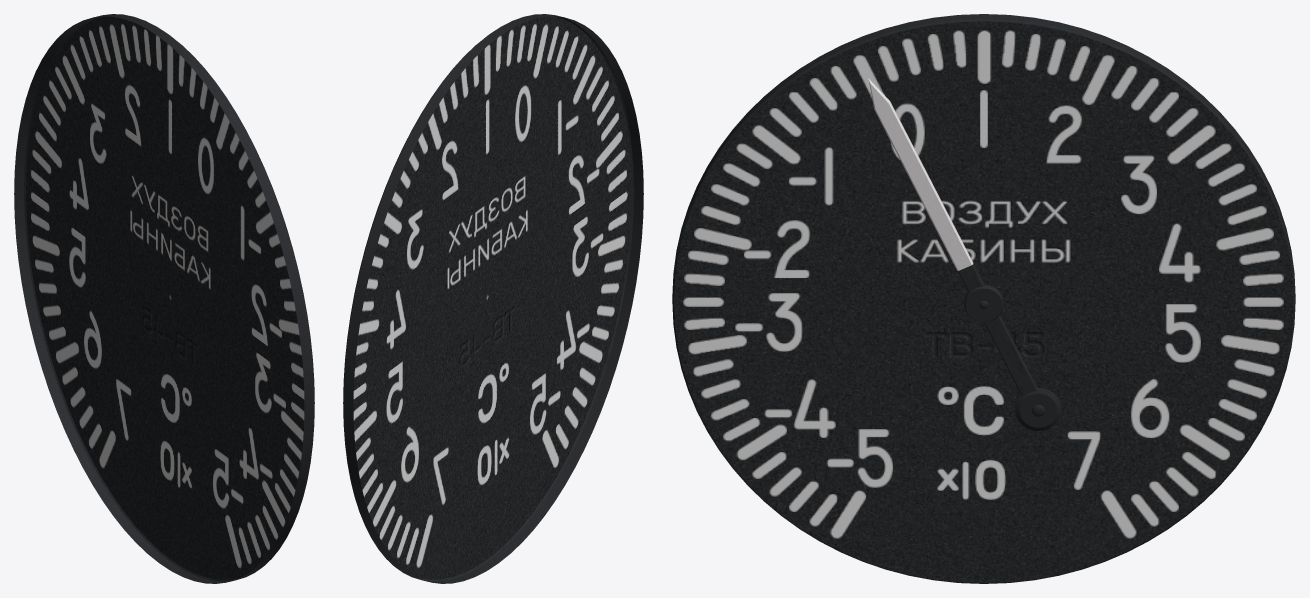
3 renders of one model, left to right at view 1: azimuth 30°, elevation 25°; view 2: azimuth 150°, elevation 25°; view 3: azimuth 270°, elevation 25°, orthographic. The views are drawn at different scales.
Parts seen in each view (by area): view 1: Circle034; view 2: Circle034; view 3: Circle034, TV_45.
Part boxes in pixels (x1,y1,x2,y2): Circle034: [14, 14, 314, 583]; Circle034: [343, 14, 643, 583]; Circle034: [672, 14, 1295, 583]; TV_45: [868, 78, 1061, 430].
Size of the model in its own units: 2.17 by 59 by 59.
Materials: 3 (3 with a texture image).
